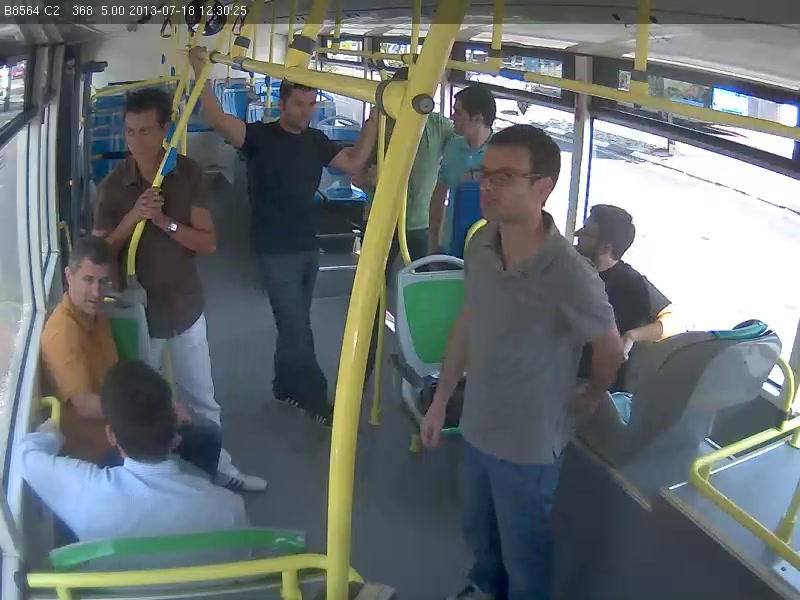Head: (464, 112, 569, 243), (89, 350, 192, 475), (61, 231, 122, 331), (113, 86, 175, 175), (570, 201, 641, 274), (269, 61, 327, 148), (446, 80, 501, 148)
